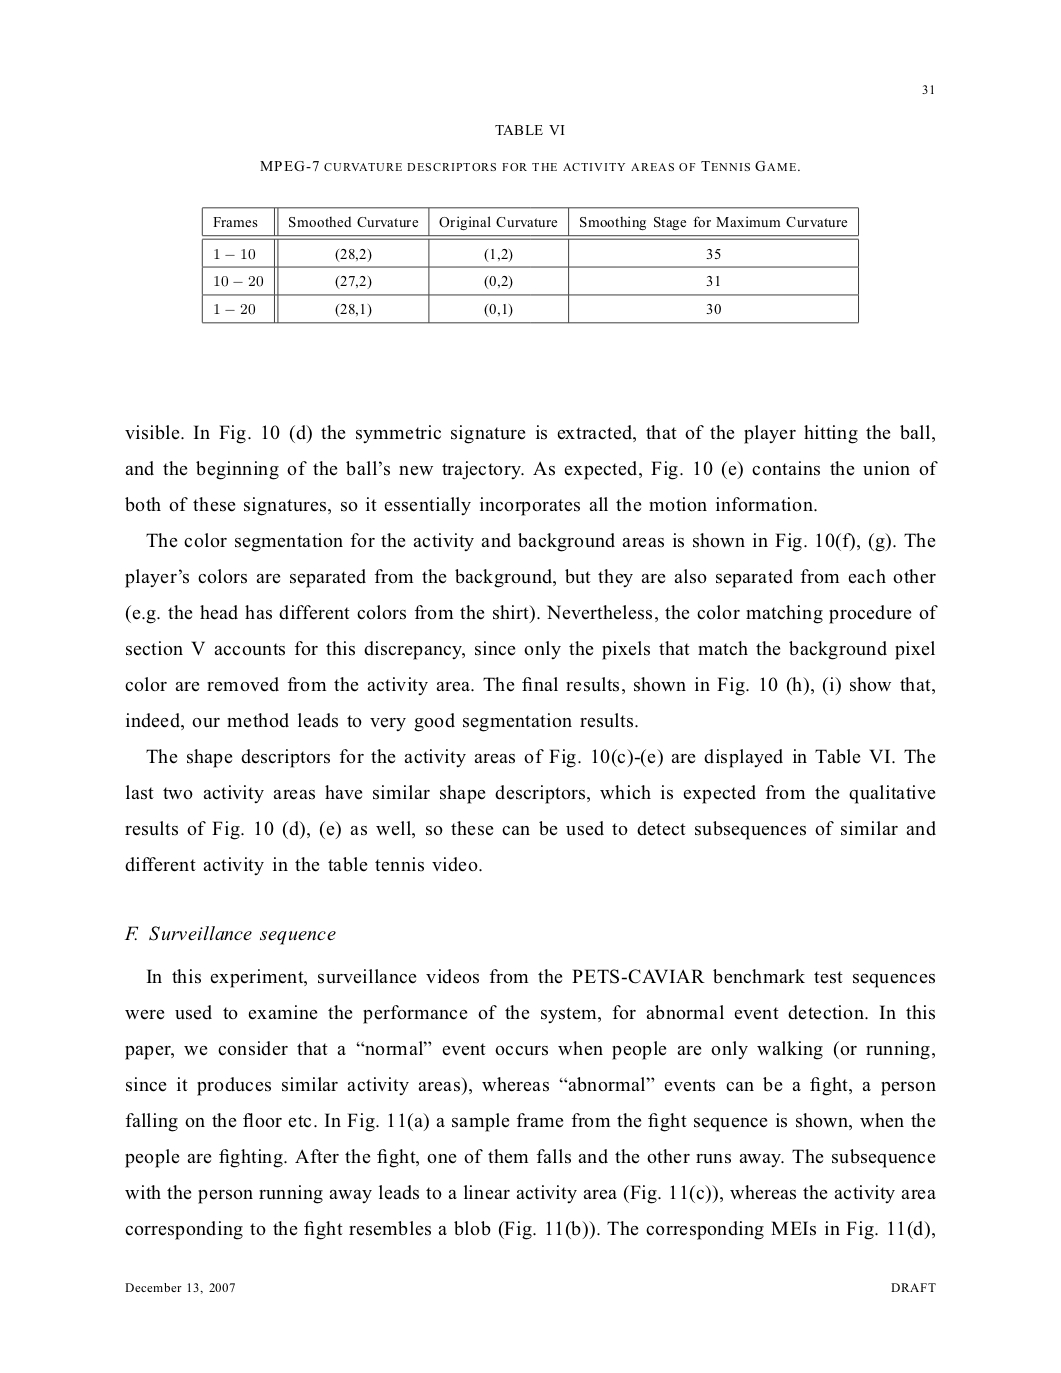Table: (201, 205, 858, 324)
